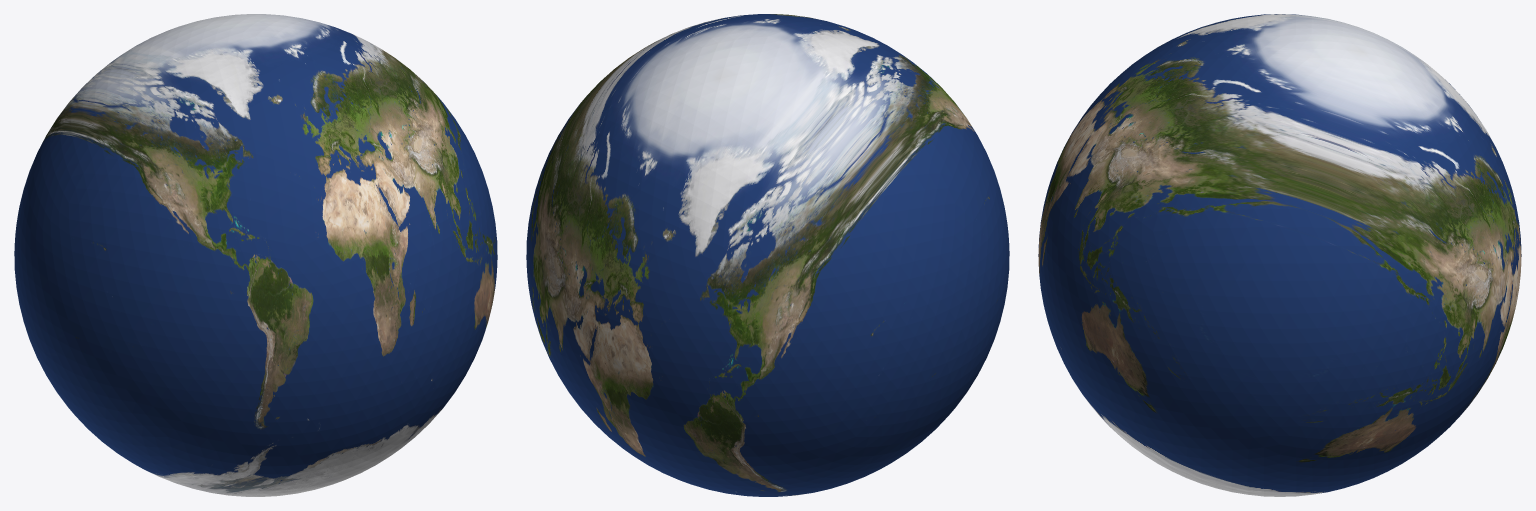
File: earth.glb
3 renders of one model, left to right at view 1: azimuth 30°, elevation 25°; view 2: azimuth 150°, elevation 25°; view 3: azimuth 270°, elevation 25°, orthographic.
Bounding box in the file's own units: 1 × 1 × 1.
1 material, 1 textured.
